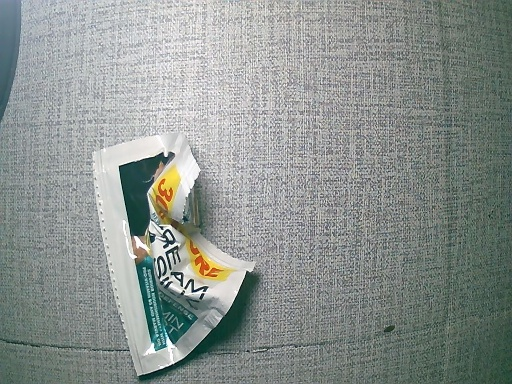plastic: (91, 136, 258, 377)
